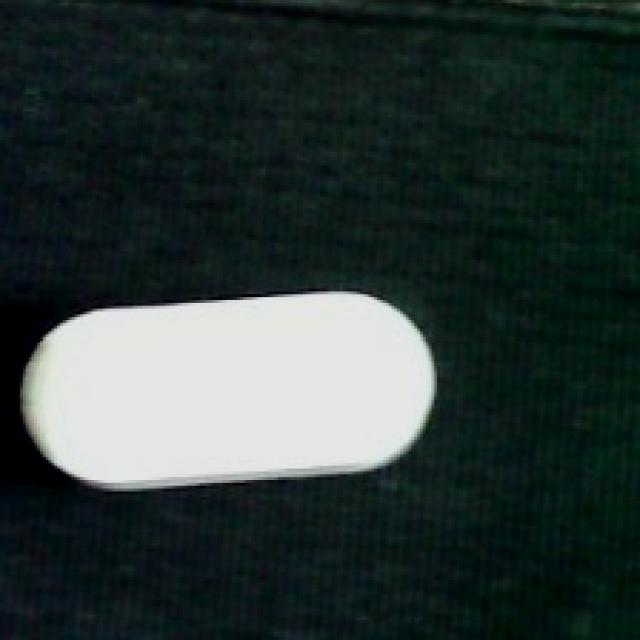no-defect: (14, 289, 440, 494)
